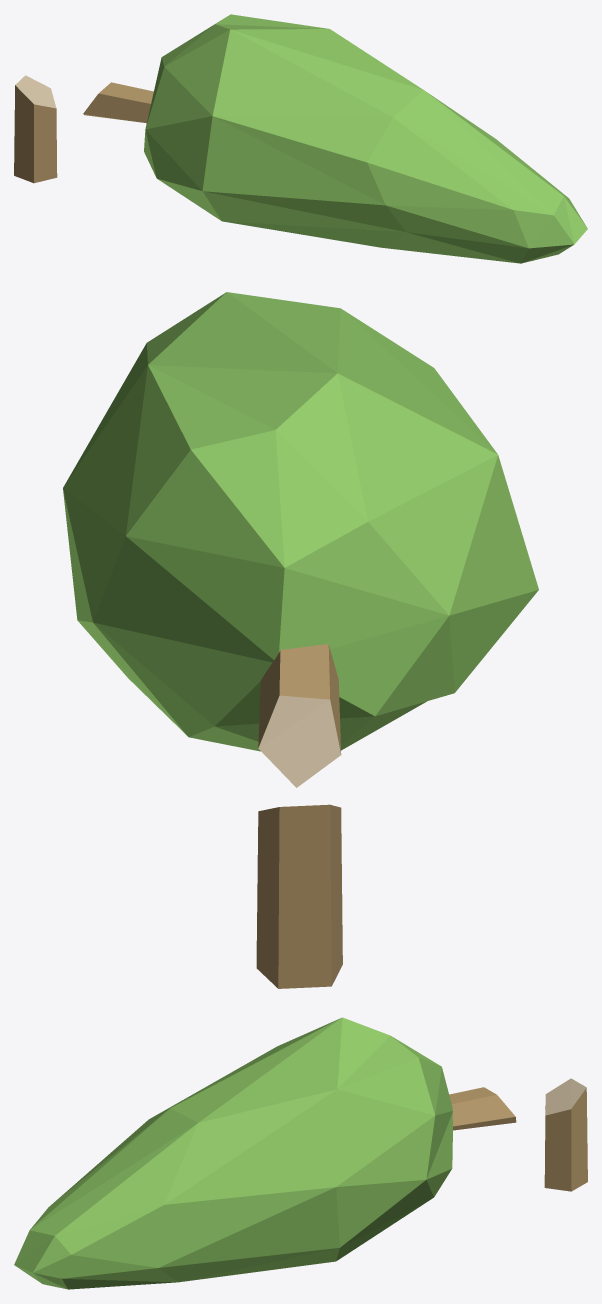
Rendered from Thuja_Tree_crk_s_01_LOD.fbx.
3 renders of one model, top to bottom at view 1: azimuth 30°, elevation 25°; view 2: azimuth 150°, elevation 25°; view 3: azimuth 270°, elevation 25°, orthographic. The views are drawn at different scales.
Visible parts, largest first — view 1: Thuja_Tree_crk_s_01_LOD0; view 2: Thuja_Tree_crk_s_01_LOD0; view 3: Thuja_Tree_crk_s_01_LOD0.
Boxes of the visible parts, bbox=[...] form: Thuja_Tree_crk_s_01_LOD0: bbox=[14, 14, 587, 263]; Thuja_Tree_crk_s_01_LOD0: bbox=[63, 292, 538, 988]; Thuja_Tree_crk_s_01_LOD0: bbox=[14, 1017, 587, 1289].
Size of what is drawn, in the model's own units: 215 by 129 by 321.
